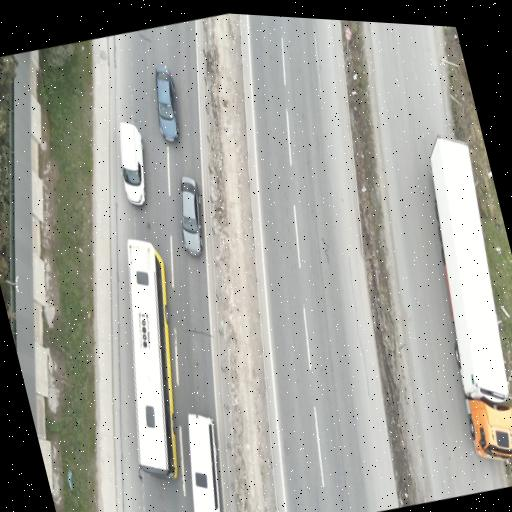bus: (128, 240, 177, 477)
car: (187, 413, 220, 512), (120, 122, 145, 204), (181, 177, 203, 256), (156, 66, 178, 141)
truck: (431, 136, 511, 459)
